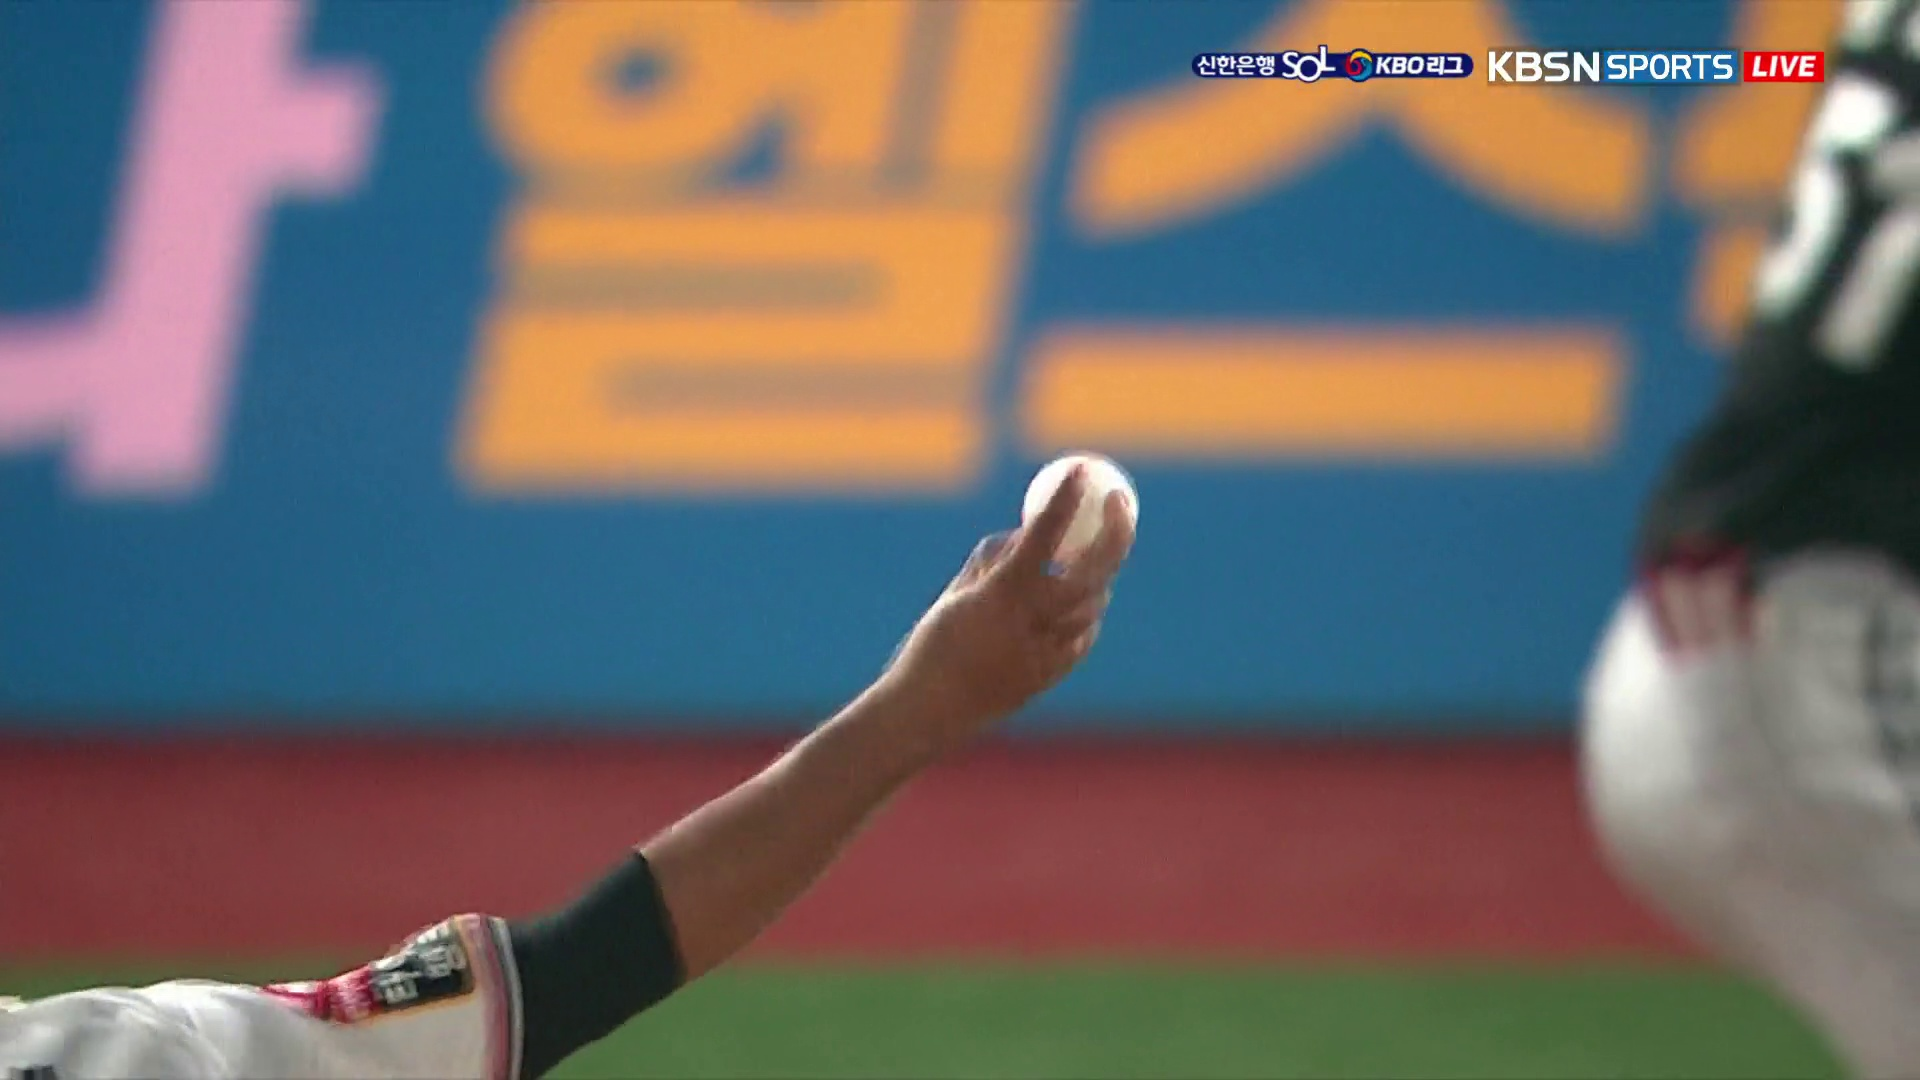zoomin_hand: (521, 442, 1153, 1039)
